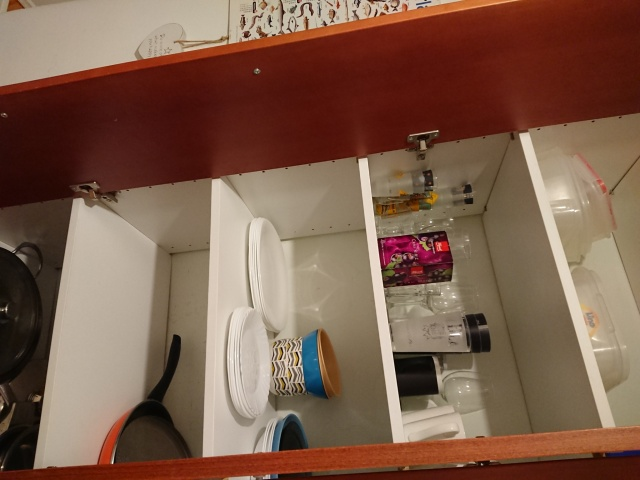Franck Black Currant Tea 60g: (375, 229, 455, 289)
